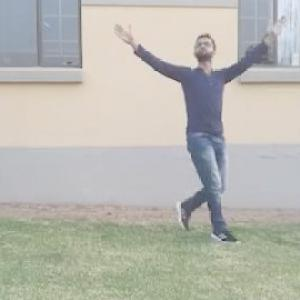takeoff: (116, 23, 278, 246)
